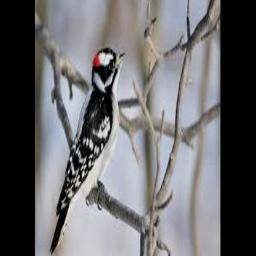Woodpecker: (49, 48, 128, 256)
